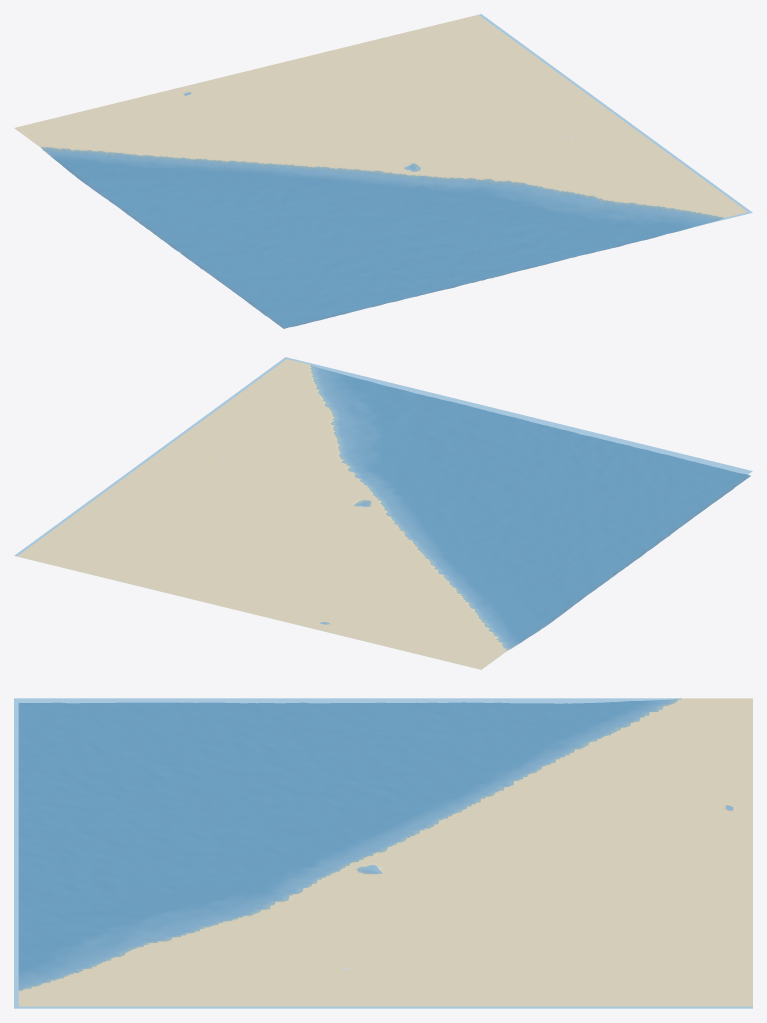
The model's file is zuma-beach-ca.glb.
3 renders of one model, top to bottom at view 1: azimuth 30°, elevation 25°; view 2: azimuth 150°, elevation 25°; view 3: azimuth 270°, elevation 25°, orthographic. The views are drawn at different scales.
Visible parts, largest first — view 1: terrain, water; view 2: terrain, water; view 3: terrain, water.
Part boxes in pixels (x1,y1,x2,y2): terrain: [14, 14, 747, 328]; water: [41, 14, 752, 326]; terrain: [17, 359, 750, 669]; water: [14, 357, 752, 650]; terrain: [18, 698, 752, 1006]; water: [14, 698, 752, 1008].
Bounding box in the file's own units: 3140 × 25.35 × 3160.
